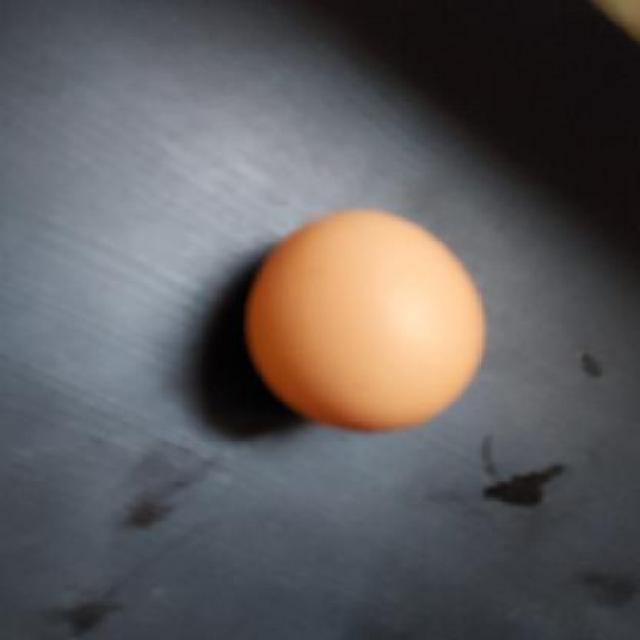biodegradable: (249, 211, 488, 431)
